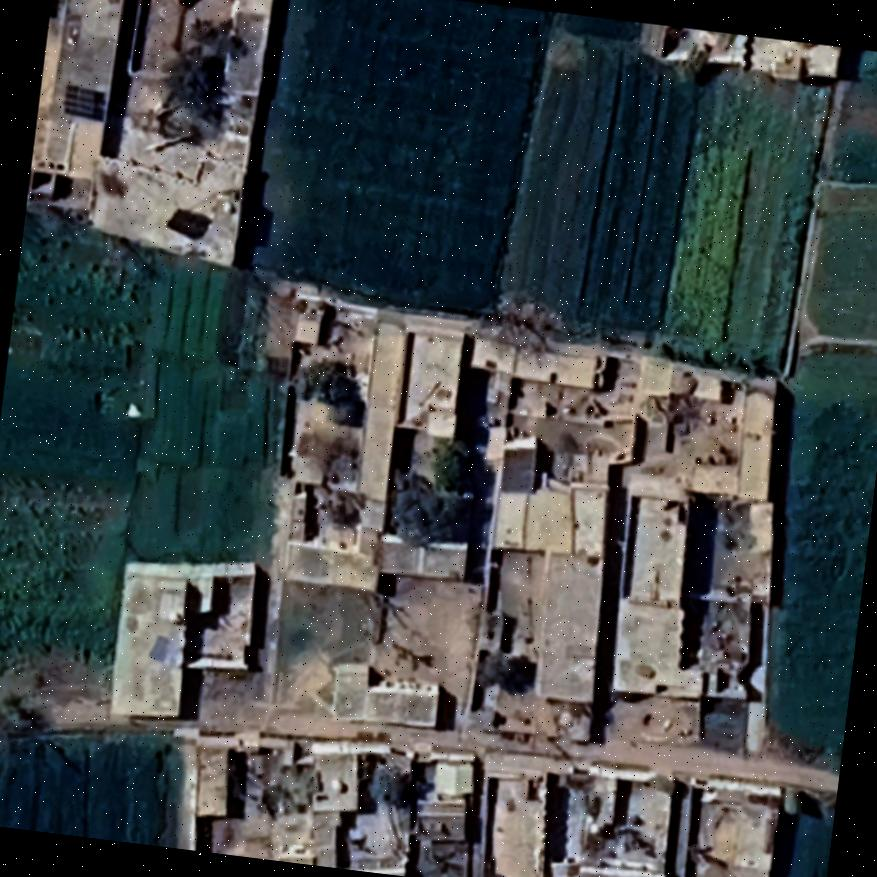Solarpanel: (56, 78, 112, 127)
